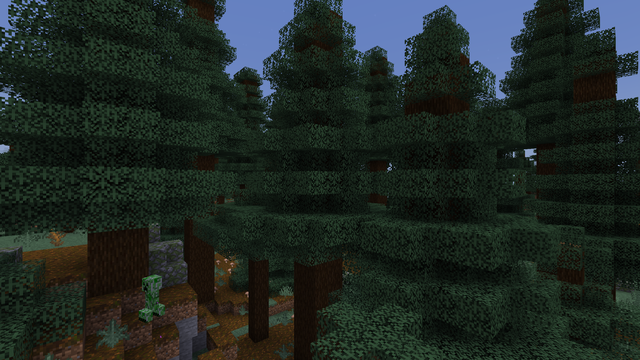creepers: (142, 271, 161, 321)
